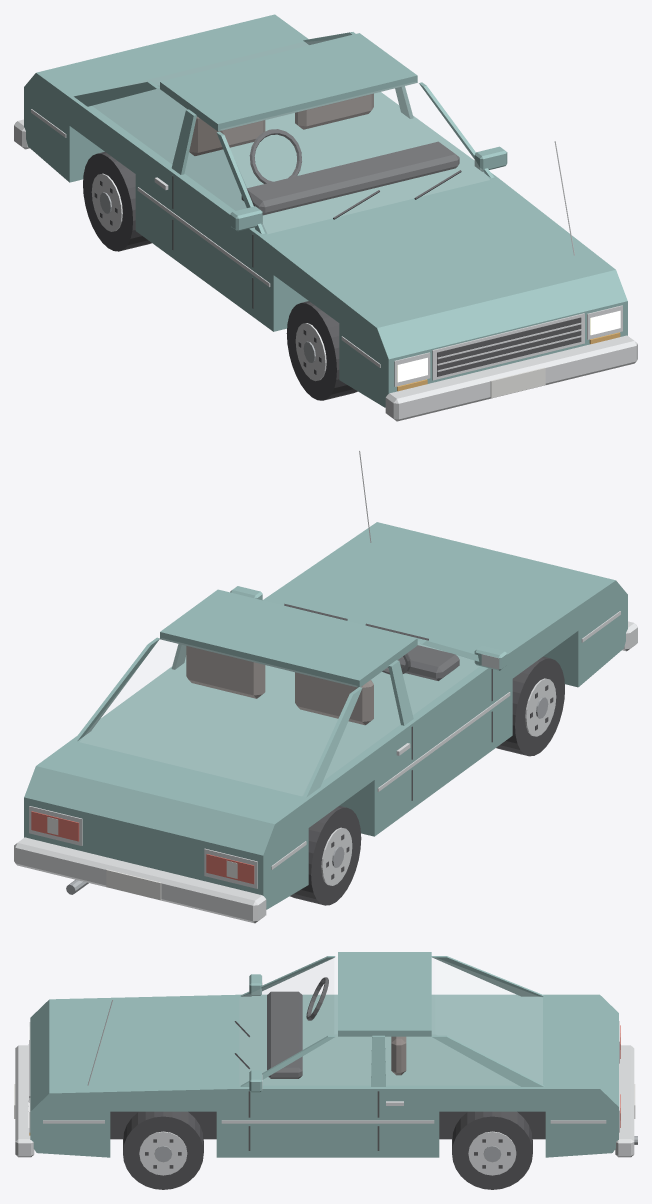
The model's file is car_coupe_t.glb.
3 views of the same model, one above another, from view 1: azimuth 30°, elevation 25°; view 2: azimuth 150°, elevation 25°; view 3: azimuth 270°, elevation 25° (orthographic). The views are drawn at different scales.
Parts seen in each view (by area): view 1: car_coupe_t_car_t, car_coupe_t_glass, car_coupe_t_chrome, car_coupe_t_dark, car_coupe_t_rubber, car_coupe_t_vinyl, car_coupe_t_lamp_glass, car_coupe_t_paint_w; view 2: car_coupe_t_car_t, car_coupe_t_glass, car_coupe_t_chrome, car_coupe_t_rubber, car_coupe_t_vinyl, car_coupe_t_dark, car_coupe_t_neon_r, car_coupe_t_paint_w; view 3: car_coupe_t_car_t, car_coupe_t_glass, car_coupe_t_rubber, car_coupe_t_chrome, car_coupe_t_dark, car_coupe_t_vinyl, car_coupe_t_steel.
Part boxes in pixels (bbox=[...]): car_coupe_t_car_t: bbox=[24, 14, 627, 407]; car_coupe_t_glass: bbox=[94, 40, 488, 233]; car_coupe_t_chrome: bbox=[14, 109, 637, 421]; car_coupe_t_dark: bbox=[94, 129, 581, 376]; car_coupe_t_rubber: bbox=[83, 152, 357, 400]; car_coupe_t_vinyl: bbox=[189, 93, 373, 155]; car_coupe_t_lamp_glass: bbox=[397, 310, 620, 382]; car_coupe_t_paint_w: bbox=[490, 367, 545, 398]; car_coupe_t_car_t: bbox=[24, 522, 627, 909]; car_coupe_t_glass: bbox=[80, 639, 478, 795]; car_coupe_t_chrome: bbox=[14, 450, 637, 923]; car_coupe_t_rubber: bbox=[290, 656, 564, 905]; car_coupe_t_vinyl: bbox=[186, 646, 373, 725]; car_coupe_t_dark: bbox=[284, 603, 553, 879]; car_coupe_t_neon_r: bbox=[31, 811, 254, 884]; car_coupe_t_paint_w: bbox=[47, 817, 237, 900]; car_coupe_t_car_t: bbox=[30, 952, 618, 1157]; car_coupe_t_glass: bbox=[240, 958, 542, 1084]; car_coupe_t_rubber: bbox=[110, 1111, 545, 1189]; car_coupe_t_chrome: bbox=[15, 1000, 634, 1175]; car_coupe_t_dark: bbox=[29, 977, 510, 1168]; car_coupe_t_vinyl: bbox=[391, 1036, 406, 1075]; car_coupe_t_steel: bbox=[154, 1136, 637, 1162].
Size of the model in its own units: 2 by 1.6 by 4.93.
